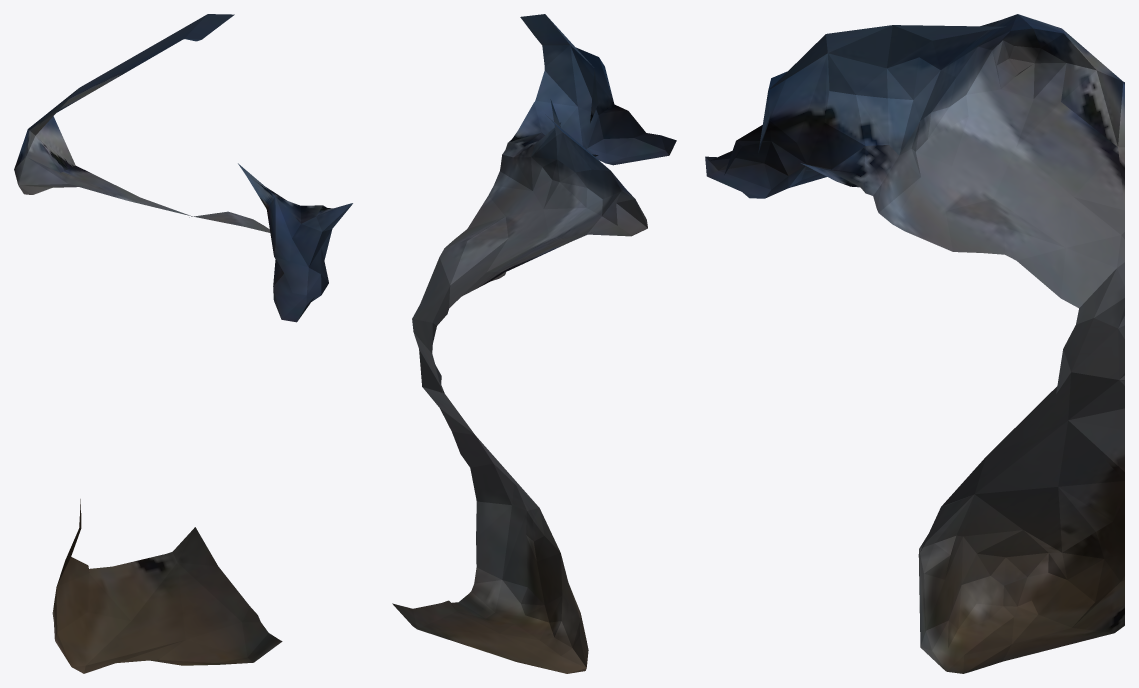
The picture shows the model from 3 angles, left to right: view 1: azimuth 30°, elevation 25°; view 2: azimuth 150°, elevation 25°; view 3: azimuth 270°, elevation 25°; orthographic projection. The views are drawn at different scales.
Bounding box in the file's own units: 0.1934 × 0.5149 × 0.2981.
Materials: 1 (1 with a texture image).
